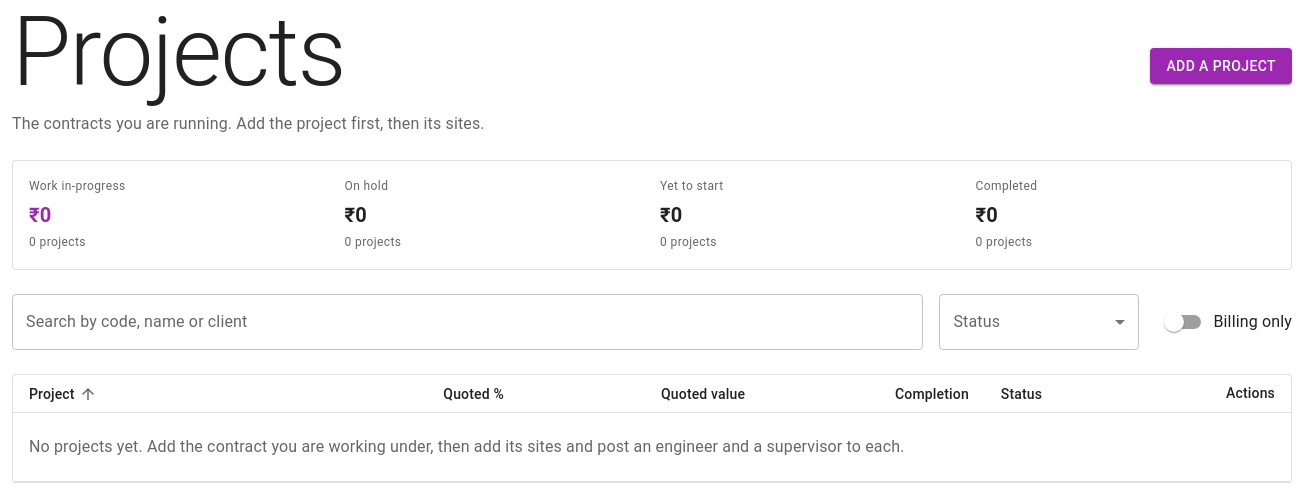
Test case: ProjectsPage › does not tell someone with twelve projects to add their first
In the field labelled "Search by code, name or client": (468, 322) [12, 294, 924, 350], type "zzz"
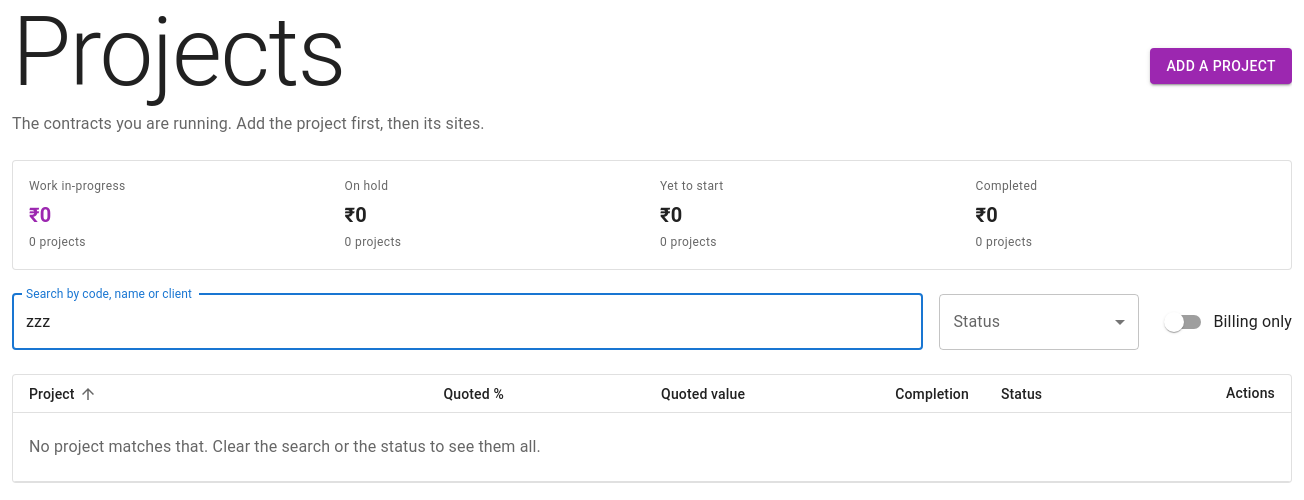
expect the text "Add the contract you are working under" is gone: met
